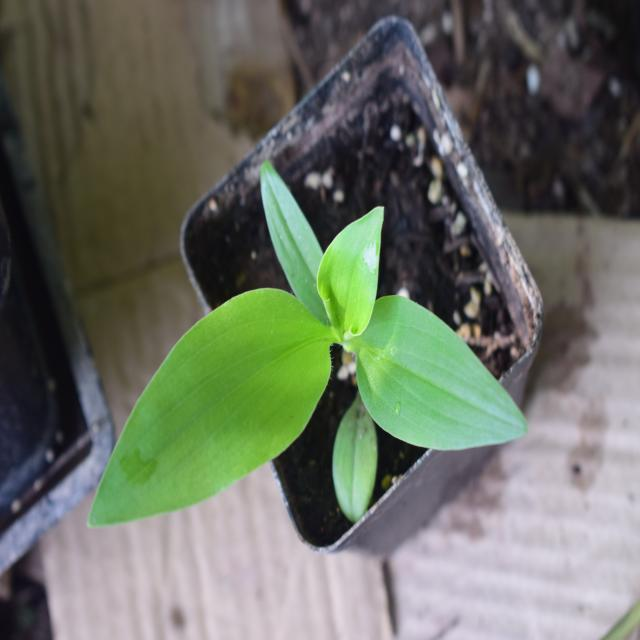Common Dayflower: (92, 192, 525, 518)
